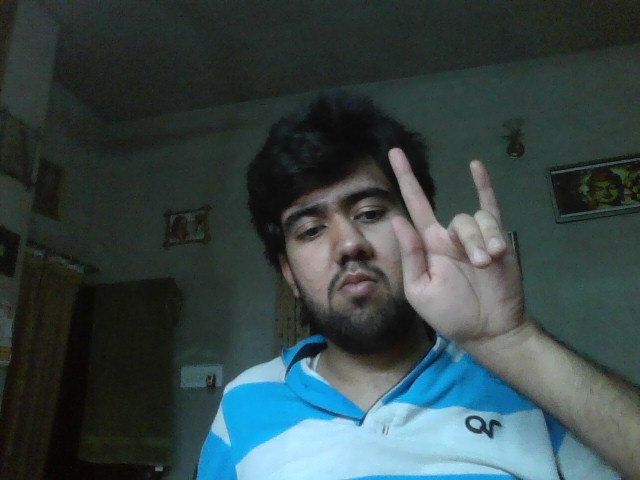ILoveYou: (388, 147, 524, 335)
